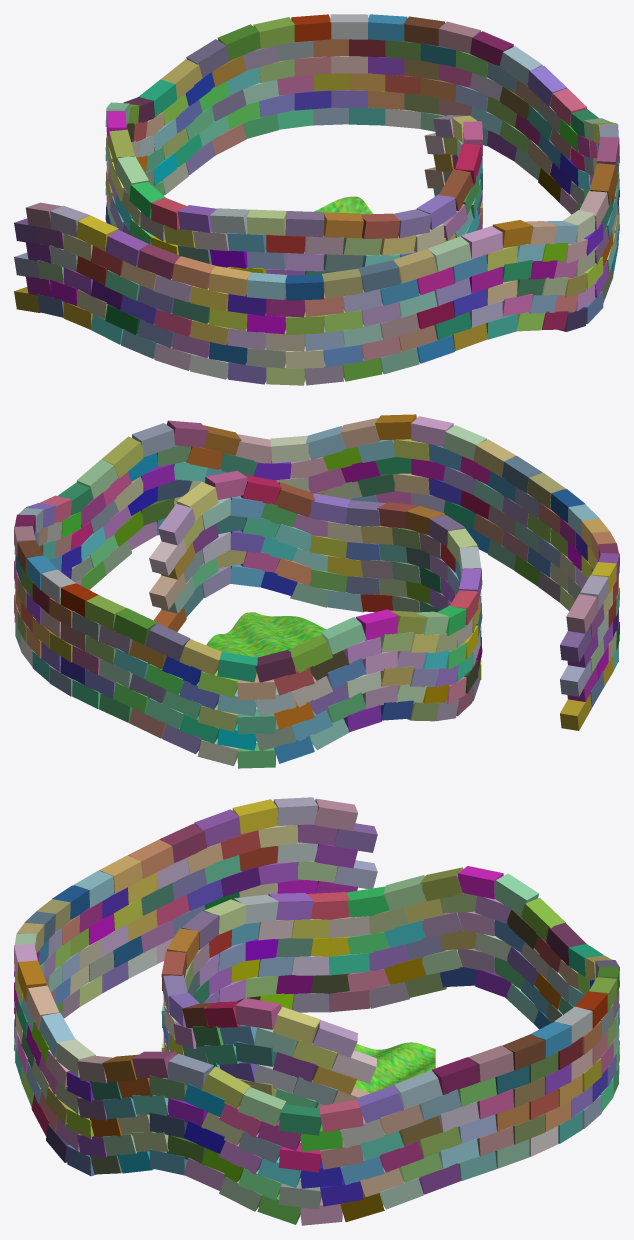
The model's file is spiral_wall_5c.glb.
The picture shows the model from 3 angles, top to bottom: view 1: azimuth 30°, elevation 25°; view 2: azimuth 150°, elevation 25°; view 3: azimuth 270°, elevation 25°; orthographic projection. The views are drawn at different scales.
Parts seen in each view (by area): view 1: undulating spiral, cosine landscape; view 2: undulating spiral, cosine landscape; view 3: undulating spiral, cosine landscape.
Part boxes in pixels (box(x1,y1,x2,y2)): undulating spiral: box(14, 14, 619, 385); cosine landscape: box(313, 196, 372, 214); undulating spiral: box(14, 414, 619, 768); cosine landscape: box(206, 612, 325, 674); undulating spiral: box(14, 797, 619, 1225); cosine landscape: box(354, 1042, 435, 1092).
Size of what is drawn, in the model's own units: 3.36 by 0.8025 by 2.97.
